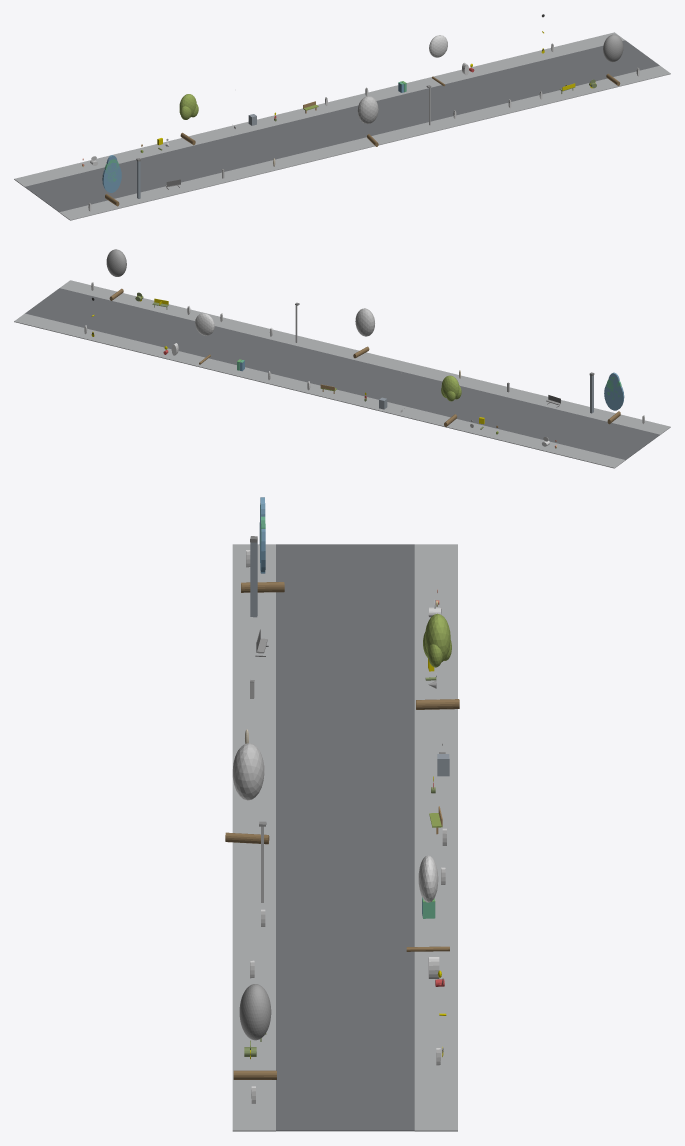
3 renders of one model, top to bottom at view 1: azimuth 30°, elevation 25°; view 2: azimuth 150°, elevation 25°; view 3: azimuth 270°, elevation 25°, orthographic. The views are drawn at different scales.
Parts seen in each view (by area): view 1: road_slab, sidewalk_left, sidewalk_right, inst_0012, inst_0014, inst_0016, inst_0013, inst_0015; view 2: road_slab, sidewalk_right, sidewalk_left, inst_0012, inst_0014, inst_0016, inst_0013, inst_0015; view 3: road_slab, sidewalk_right, sidewalk_left, inst_0014, inst_0016, inst_0013, inst_0015.
Part boxes in pixels (<box>): road_slab: <box>25,40,659,212</box>; sidewalk_left: <box>59,65,670,220</box>; sidewalk_right: <box>14,32,624,187</box>; inst_0012: <box>102,155,121,206</box>; inst_0014: <box>357,96,378,146</box>; inst_0016: <box>603,34,623,85</box>; inst_0013: <box>179,94,198,145</box>; inst_0015: <box>429,35,447,86</box>; road_slab: <box>25,288,659,460</box>; sidewalk_right: <box>14,313,625,468</box>; sidewalk_left: <box>60,280,670,434</box>; inst_0012: <box>604,372,624,424</box>; inst_0014: <box>353,308,374,358</box>; inst_0016: <box>106,249,126,300</box>; inst_0013: <box>441,375,461,426</box>; inst_0015: <box>195,313,214,364</box>; road_slab: <box>276,544,414,1131</box>; sidewalk_right: <box>414,544,457,1131</box>; sidewalk_left: <box>232,544,275,1131</box>; inst_0014: <box>225,743,269,844</box>; inst_0016: <box>233,984,276,1079</box>; inst_0013: <box>416,613,459,709</box>; inst_0015: <box>406,855,449,951</box>.
Size of the model in its own units: 80 by 6.08 by 13.51.
